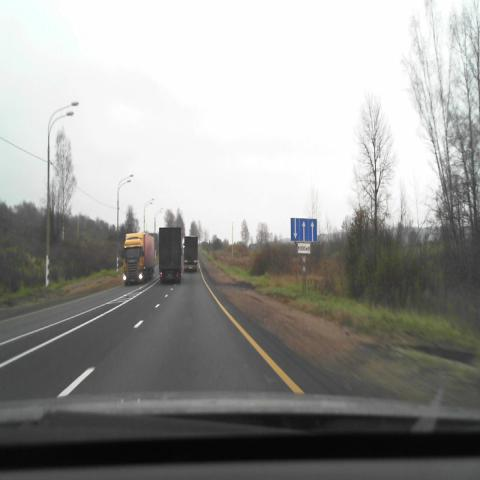5_15_7: (290, 218, 317, 242)
